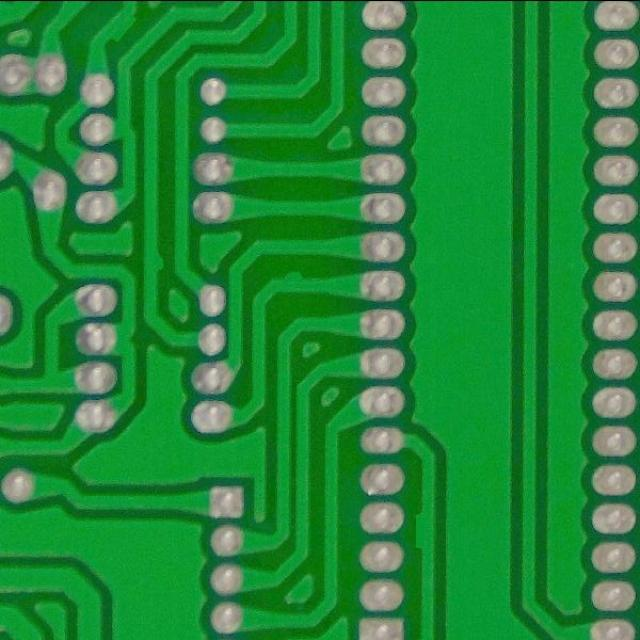Spur: (96, 5, 146, 48), (407, 503, 445, 558), (273, 264, 313, 300), (136, 243, 170, 281)
